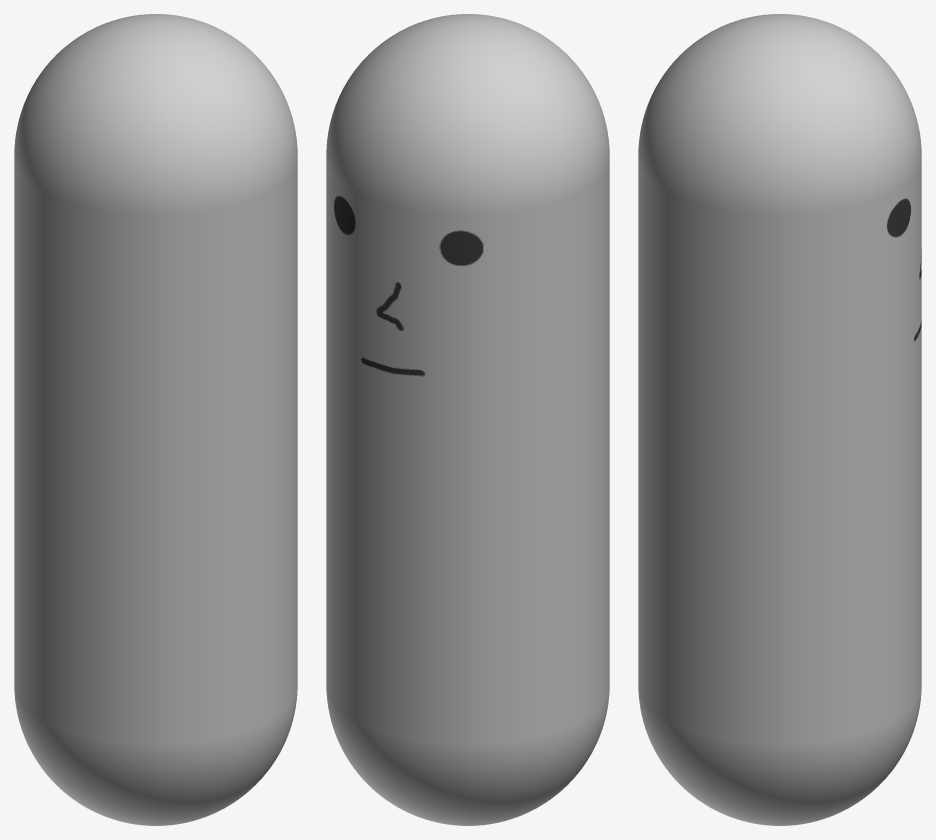
Rendered from person-proto.obj.
The picture shows the model from 3 angles, left to right: view 1: azimuth 30°, elevation 25°; view 2: azimuth 150°, elevation 25°; view 3: azimuth 270°, elevation 25°; orthographic projection.
Parts seen in each view (by area): view 1: person-proto; view 2: person-proto; view 3: person-proto.
Part boxes in pixels (left/top/right/bottom): person-proto: left=14, top=14, right=297, bottom=825; person-proto: left=326, top=14, right=609, bottom=825; person-proto: left=638, top=14, right=921, bottom=825.
Size of the model in its own units: 458 by 1400 by 458.
